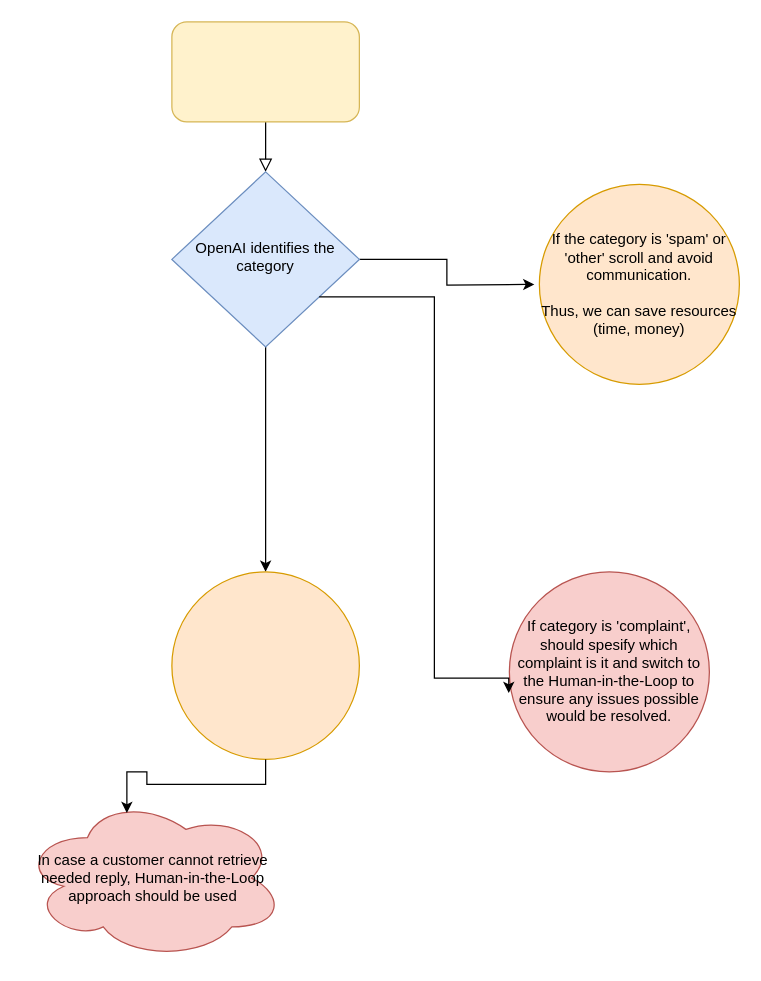
This 761x981 diagram has some shape labels left out. The shapes that lost their labels are listed below. From the top down, each one's centre as x and y in pixels, then its label:
(x=265, y=71): input message
(x=265, y=665): If category is 'specified_data_needed' dwell on and retrieve needed data
